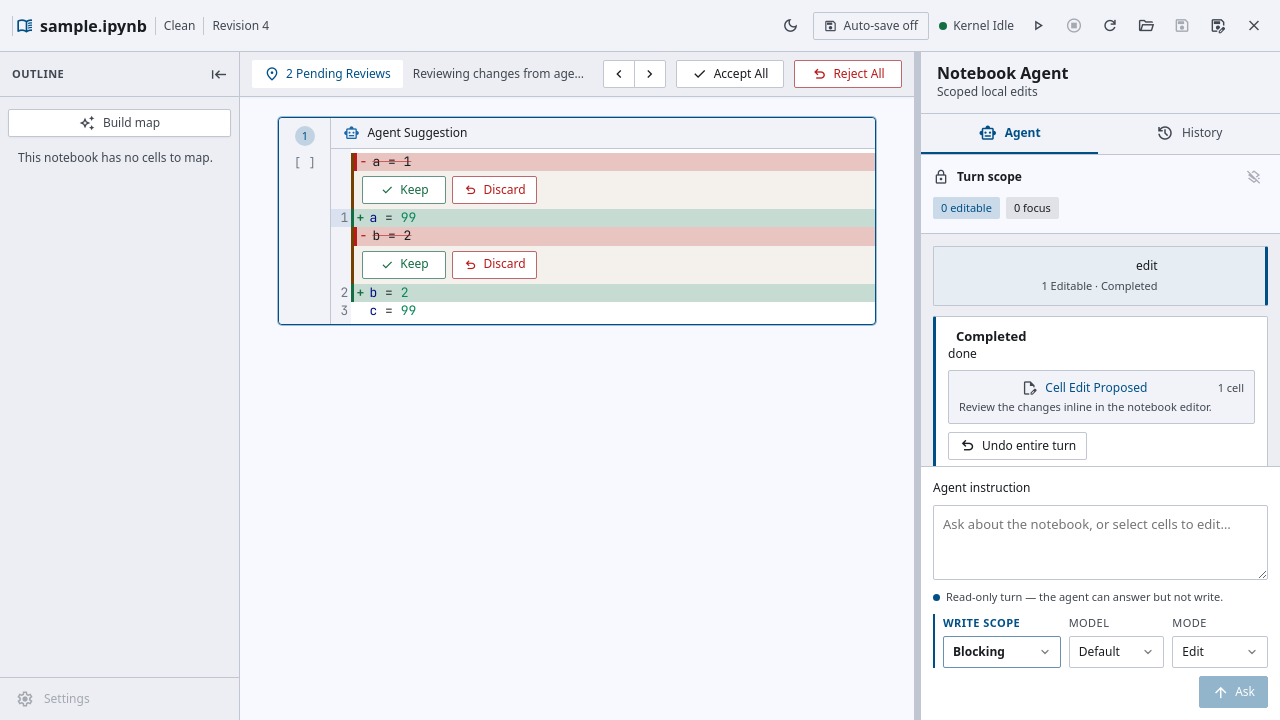
Scenario: per-operation review › can be cancelled from the confirmation without undoing anything
Click the button "Reject All". click: [848, 74]
box: [794,60,902,88]
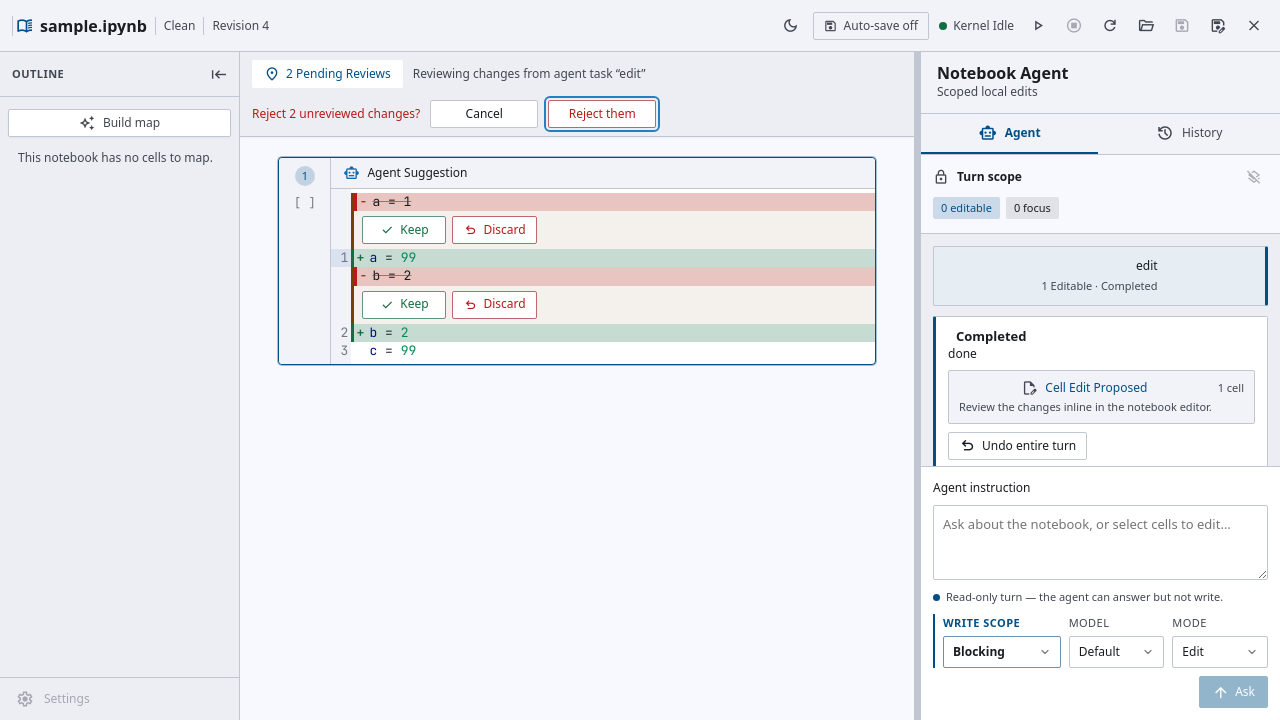
Click the button "Cancel". click: [484, 114]
box: [430,100,538,128]
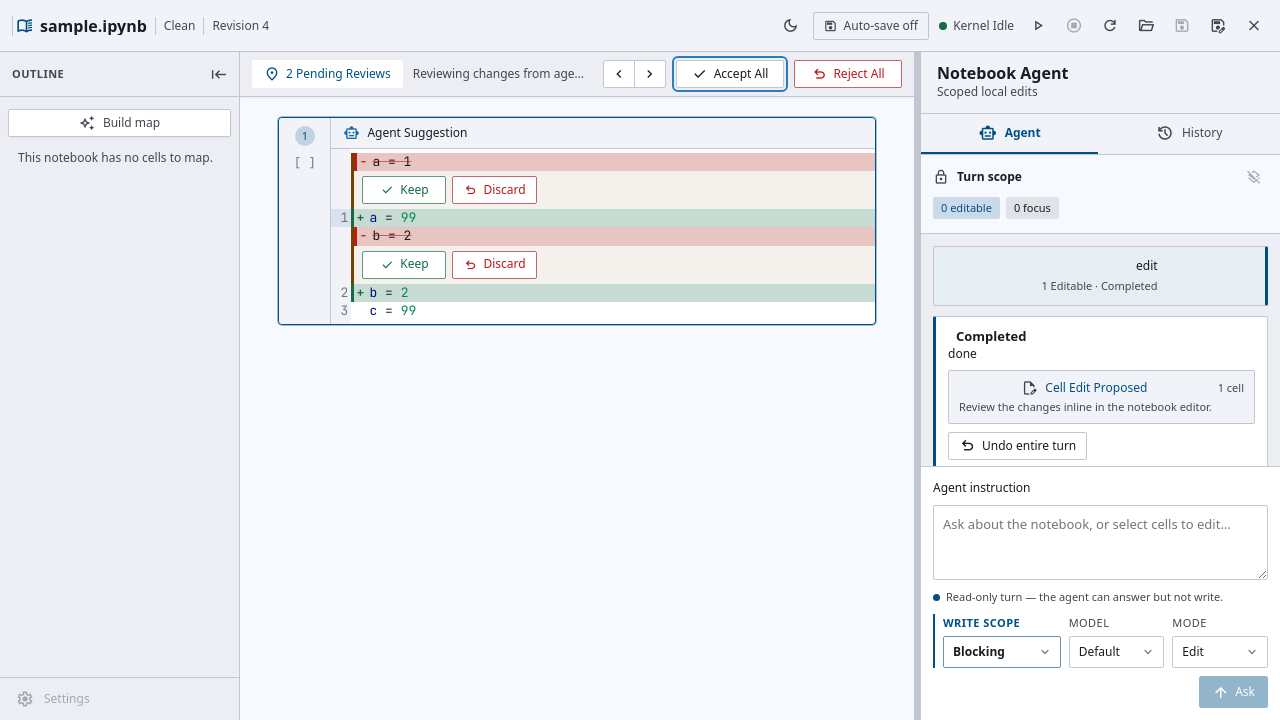
Expected: the button "Reject them" is gone
